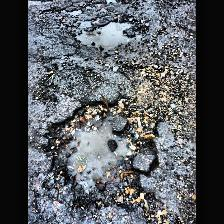pothole: (41, 101, 164, 215), (72, 16, 148, 50)
